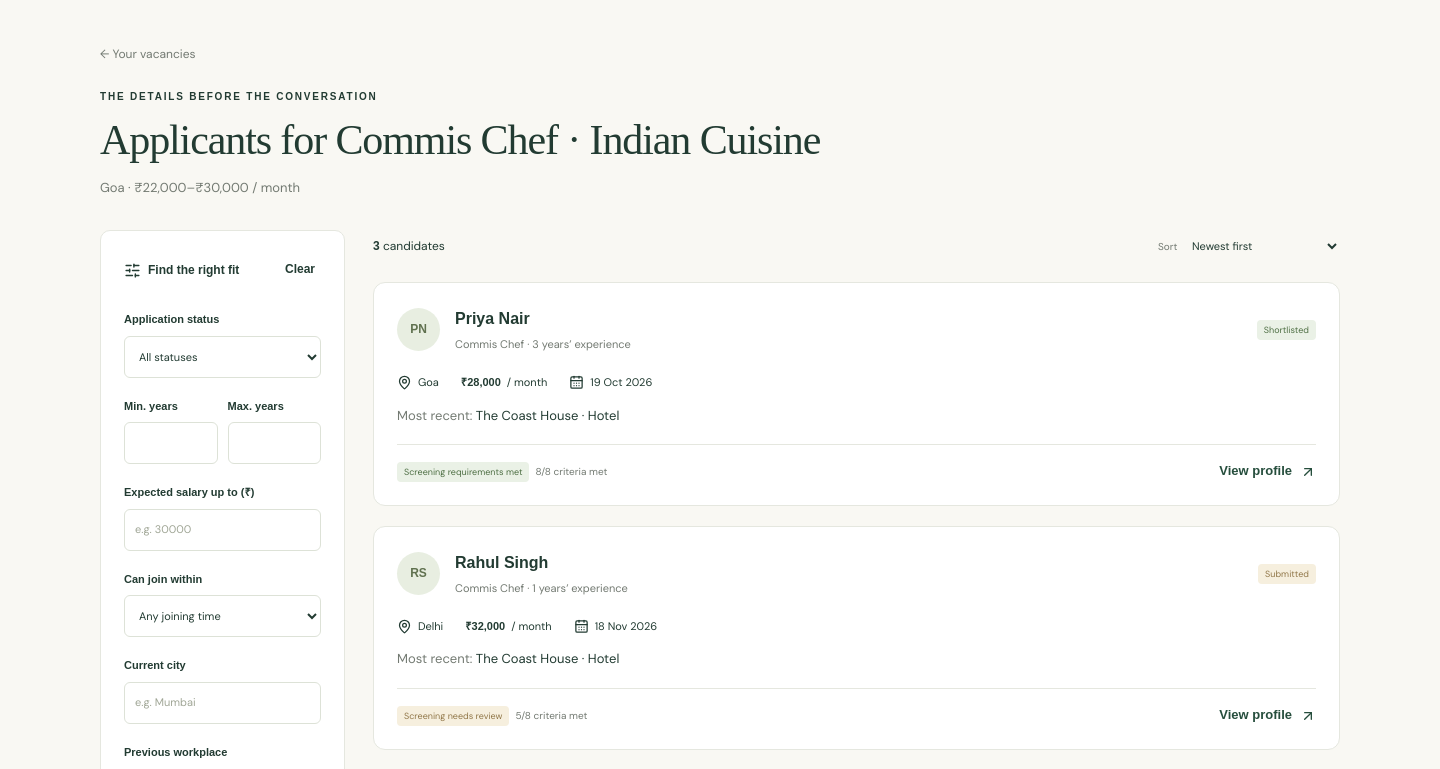
Test case: hospitality hiring interactions › filters salary expectations and shortlists the selected candidate
Type "30000" into the number field labelled "Expected salary up to (₹)" at (222, 530), box [124,509,321,551]
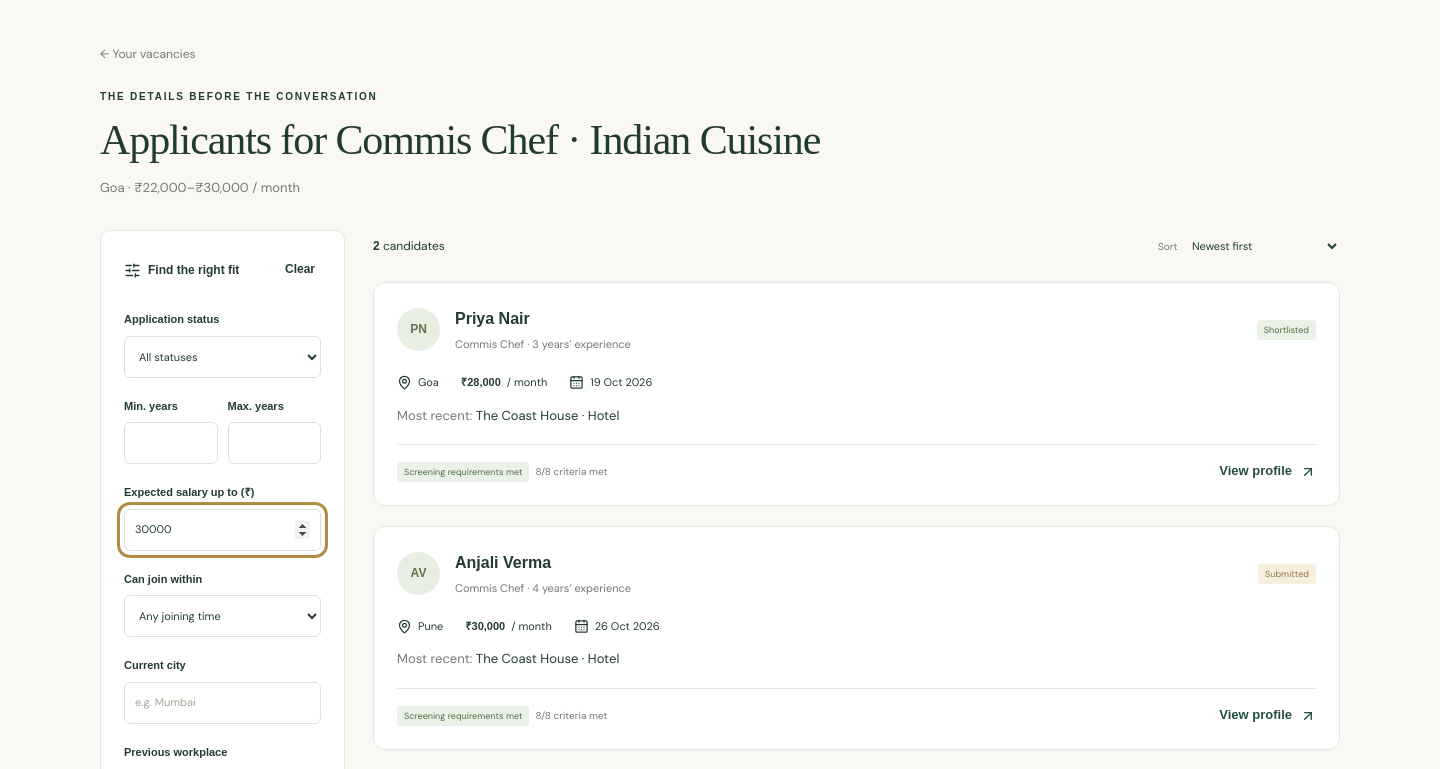
Check: the link "Rahul Singh" is gone
Click the link "Anjali Verma" at (503, 562), box [455,554,551,571]
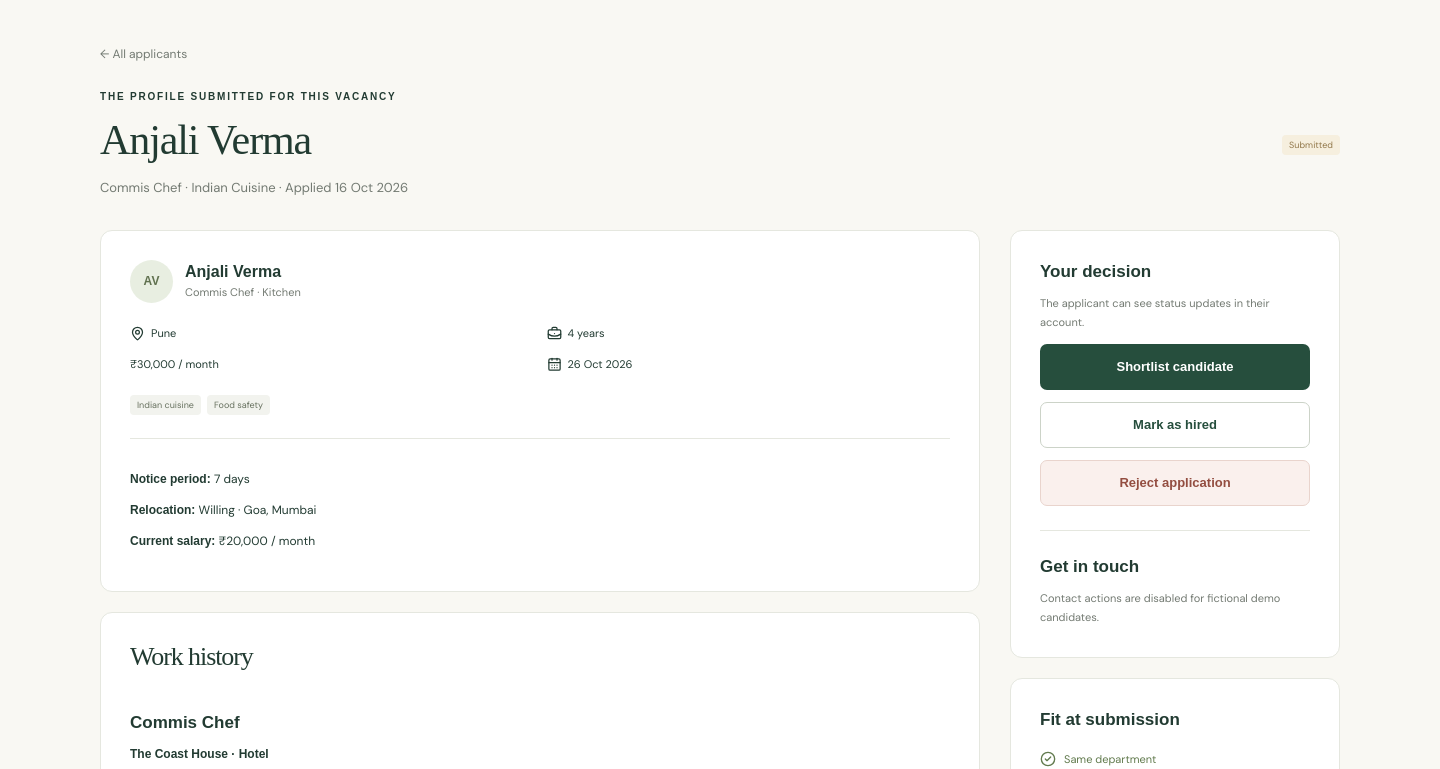
Check: the heading "Anjali Verma" below "THE PROFILE SUBMITTED FOR THIS VACANCY" is shown, box [100,117,311,163]
Click the button "Shortlist candidate" at (1175, 367), box [1040,344,1310,390]
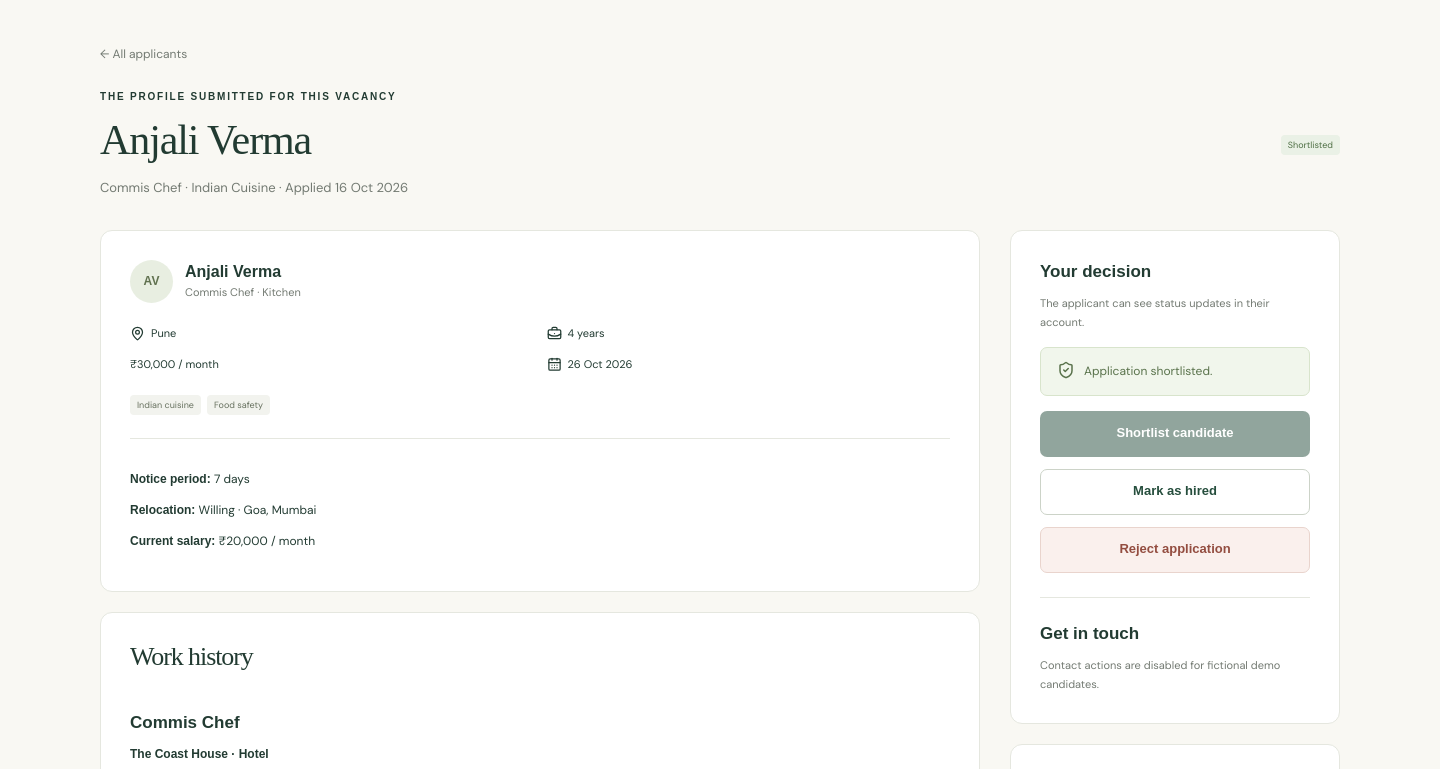
Check: the text "Application shortlisted." is shown, box [1084,361,1212,382]
